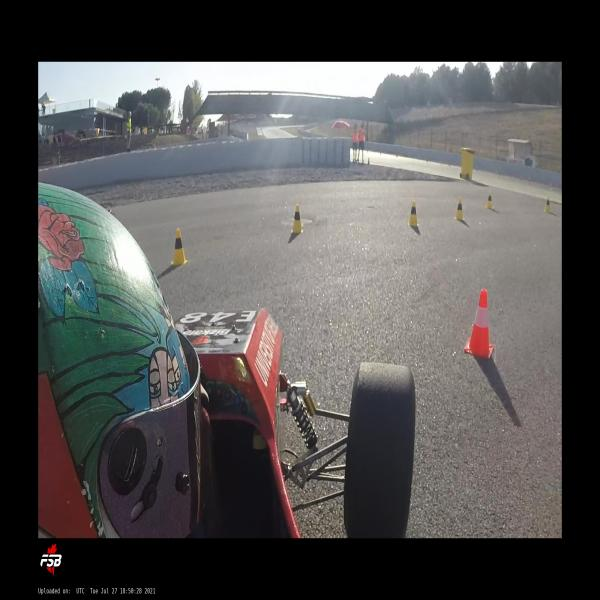orange_cone: (464, 289, 494, 360)
yellow_cone: (171, 228, 188, 266), (290, 204, 303, 233), (408, 201, 419, 226), (454, 198, 465, 222), (486, 191, 493, 210), (544, 196, 551, 213)
